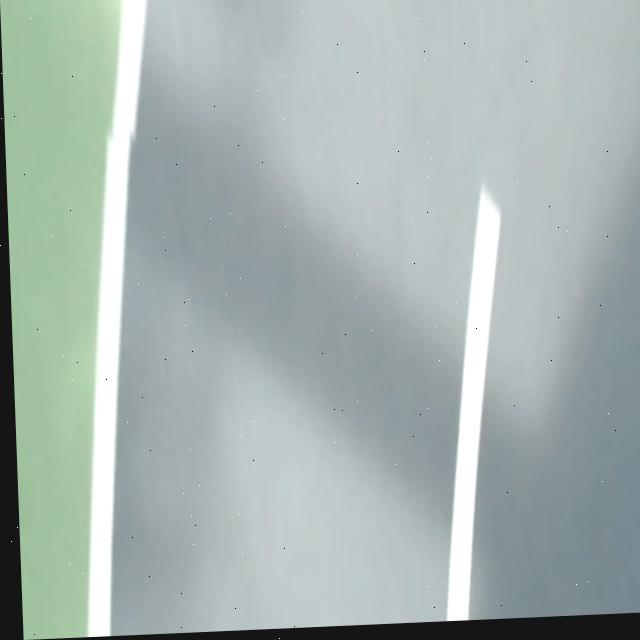center: (448, 186, 501, 620)
right: (89, 0, 147, 636)
